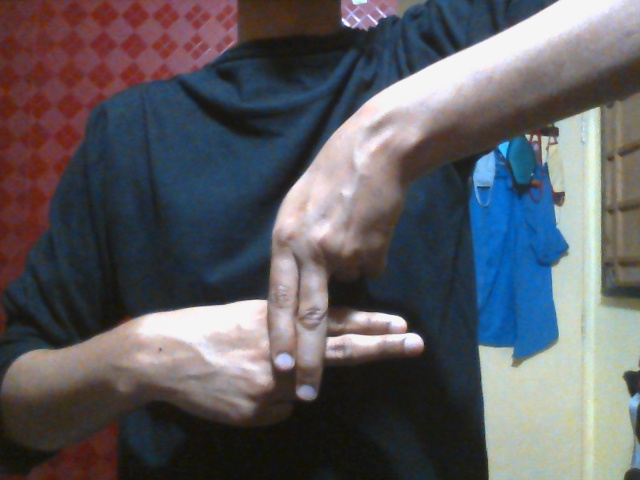F: (148, 152, 426, 431)
